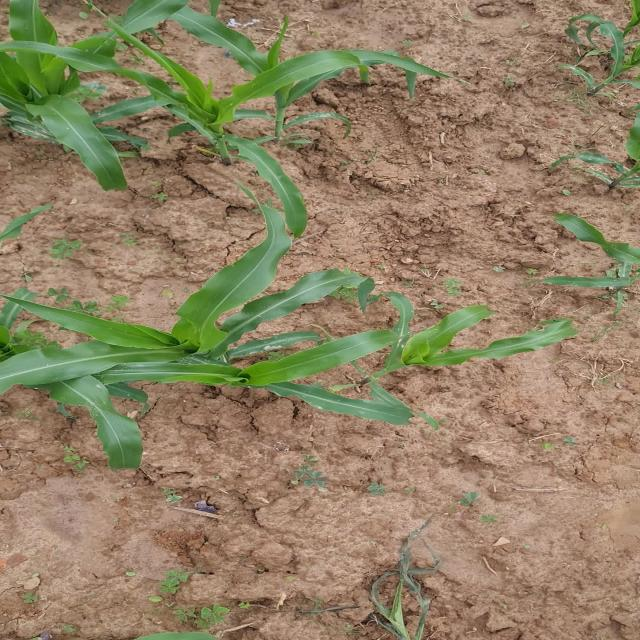maize: (0, 203, 538, 462), (72, 25, 338, 187), (182, 4, 388, 146), (0, 1, 161, 175), (549, 175, 640, 300), (543, 2, 640, 90), (545, 114, 640, 181)
weed: (348, 543, 474, 640), (106, 579, 304, 640)
